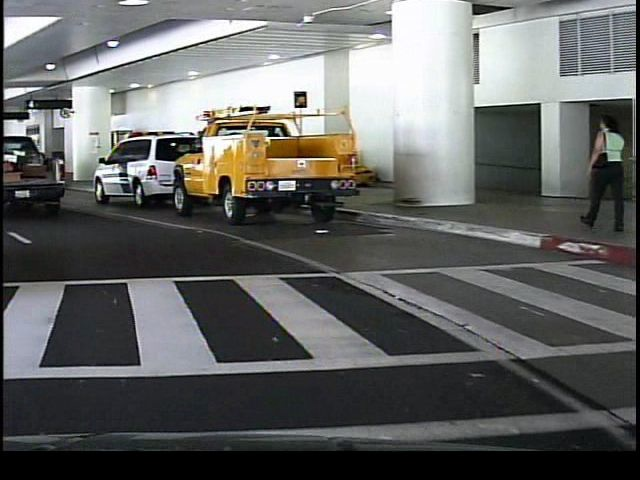person: (578, 109, 627, 235)
